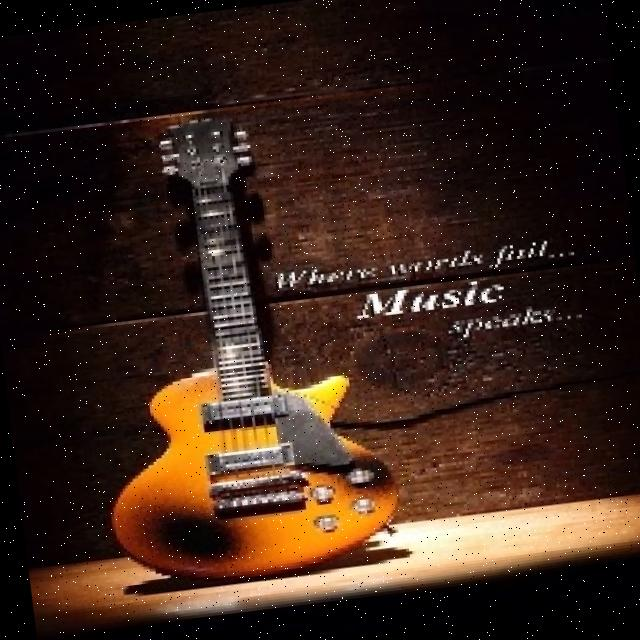guitar: (58, 92, 412, 602)
